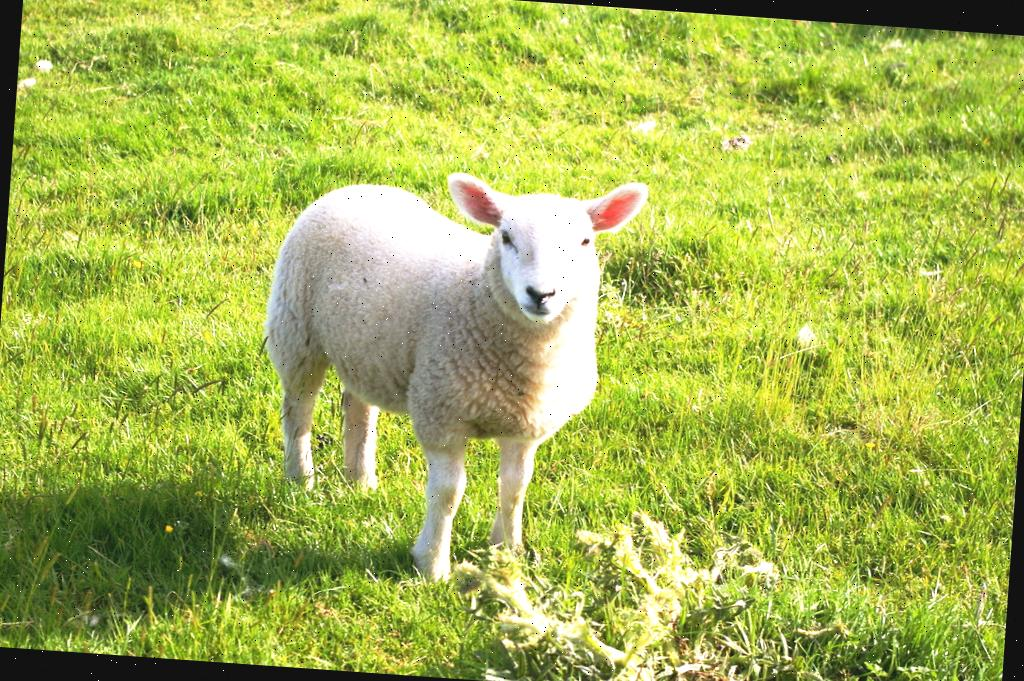Sheep: (244, 154, 648, 600)
